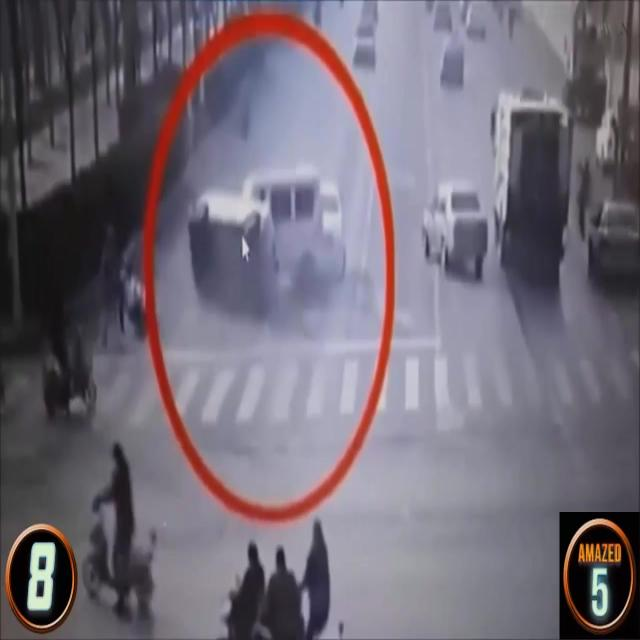severe: (180, 160, 346, 302)
